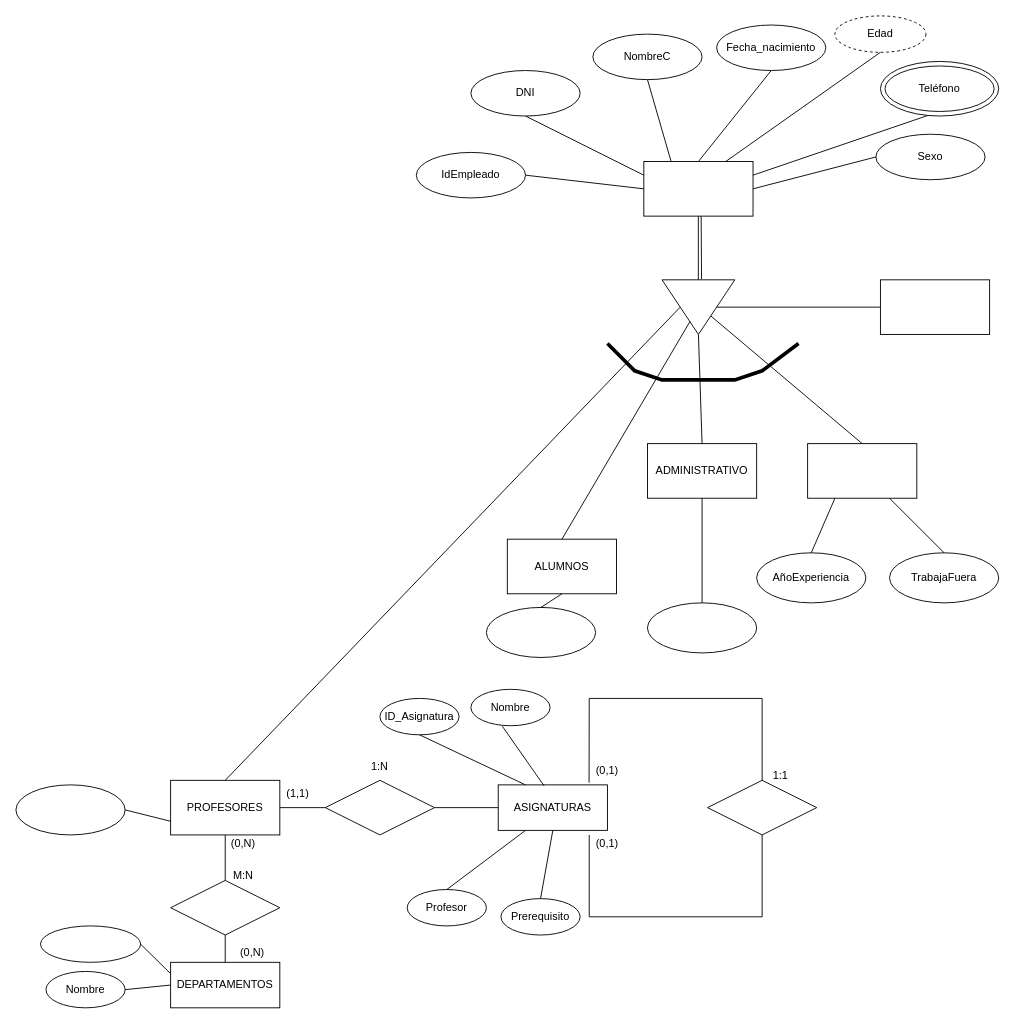
This 1015x1024 diagram has some shape labels left out. The shapes that lost their labels are listed below. From the top down, each one's centre as x and y in pixels, then its label:
At (698,188): "PERSONAL".
At (935,306): "VISITAS".
At (862,470): "AUDITORES".
At (540,632): "Especialidad".
At (702,627): "Especialización".
At (70,809): "SalarioAnual".
At (379,807): "Imparten".
At (762,807): "es prerequisito de".
At (225,907): "Pertenece".
At (90,943): "ID_Departamento".
